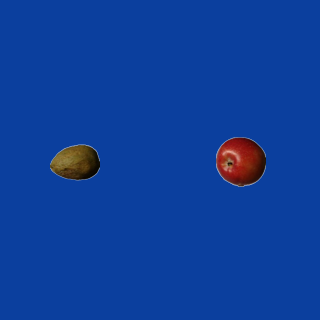Apple Braeburn: (215, 136, 265, 186)
Papaya: (49, 137, 99, 187)
